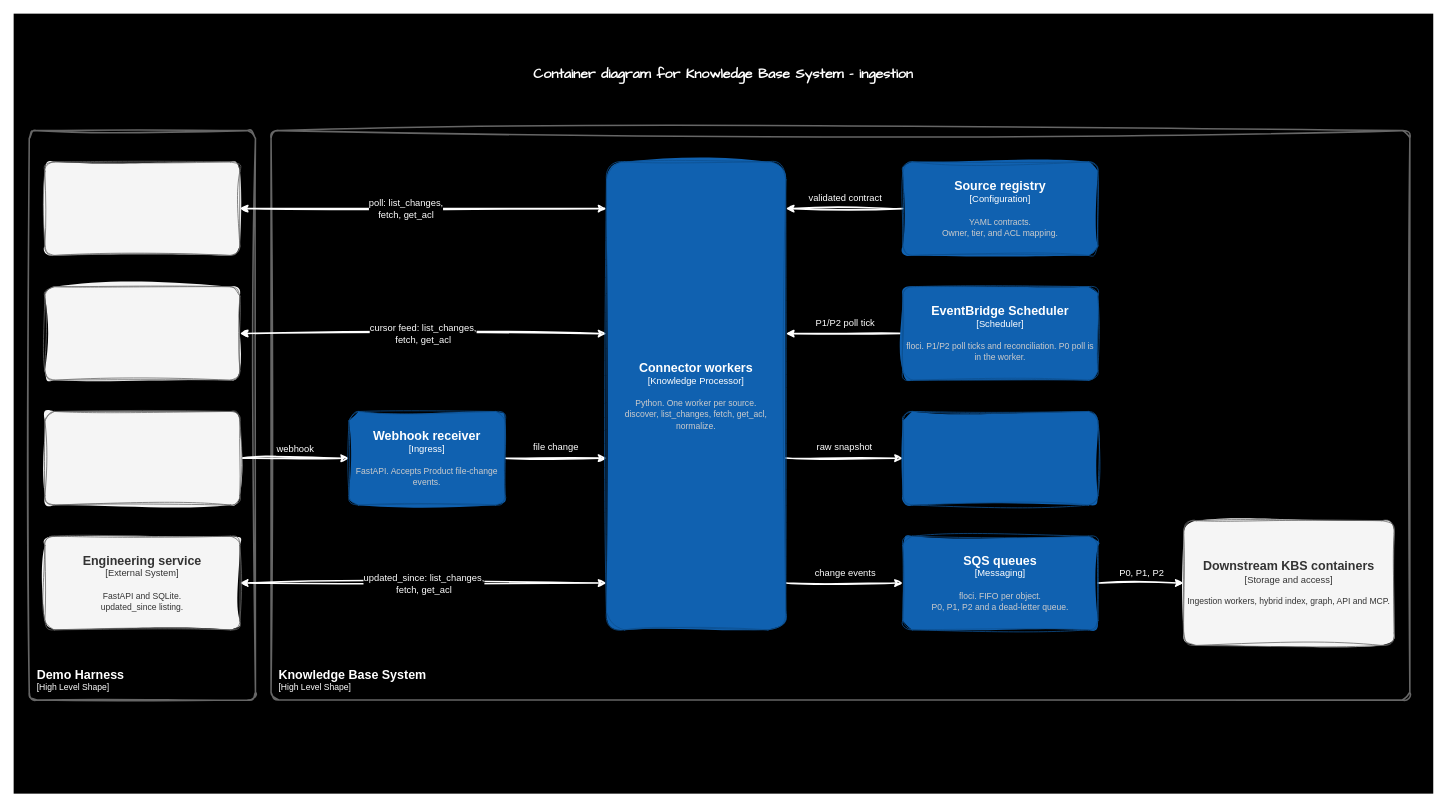
The diagram is 1446 pixels wide and 807 high, and some of its shapes have lost their labels. The shapes that lost their labels are listed below. From the top down, each one's centre as x and y in pixels, then its label:
At point 142,208: "HR service [External System] FastAPI and SQLite. Poll, no webhook.".
At point 142,333: "Sales service [External System] FastAPI and SQLite. Cursor change feed.".
At point 142,458: "Product service [External System] FastAPI and files. Webhook on file change.".
At point 1000,458: "S3 raw snapshots [Object Storage] floci. Raw payloads and document blobs.".
